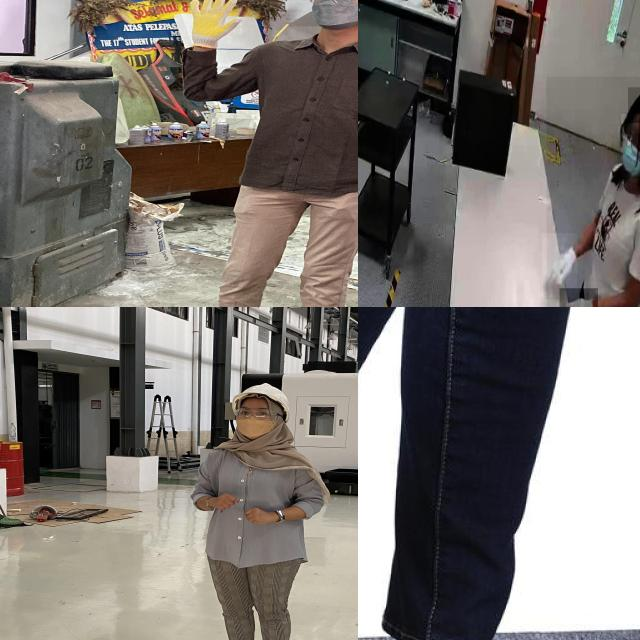face_mask: (306, 0, 358, 29), (233, 406, 277, 439), (621, 114, 640, 177)
glasses: (232, 406, 286, 419), (303, 0, 358, 9)
hand_glove: (176, 0, 246, 43), (542, 233, 578, 298), (559, 288, 598, 307)
hand_noglove: (202, 490, 240, 516), (238, 503, 272, 530)
head_helmet: (184, 378, 325, 640), (229, 379, 294, 409)
head_nohelmet: (628, 87, 640, 123)
person: (168, 0, 358, 307), (546, 76, 640, 307)
